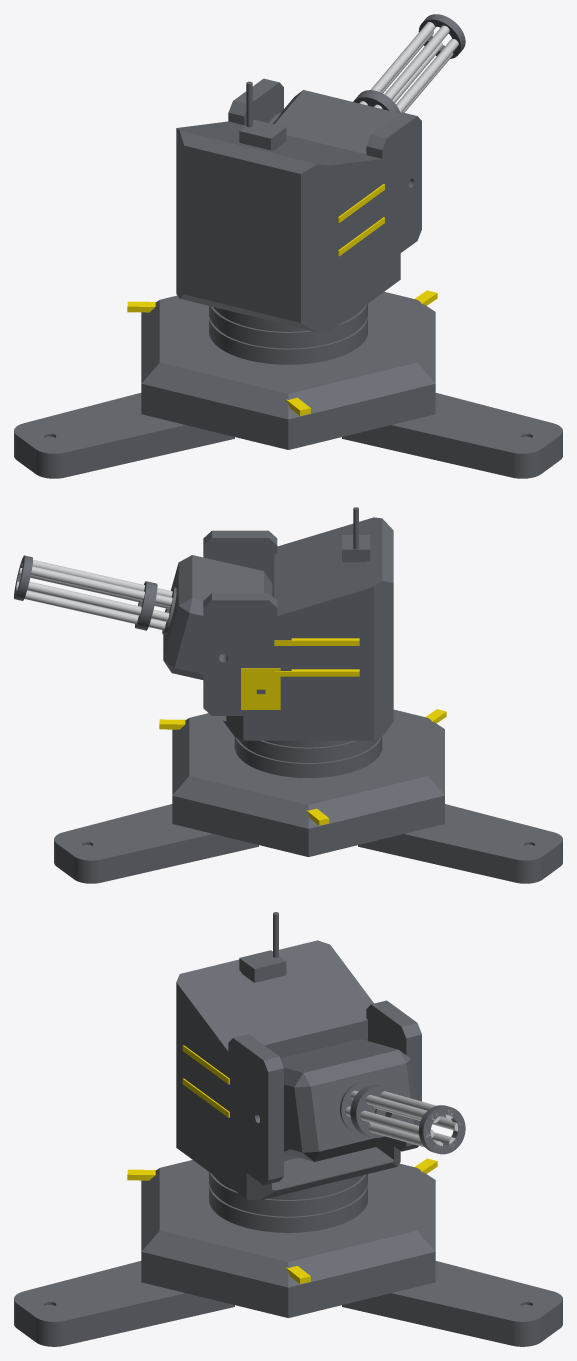
The model's file is torreta.glb.
3 renders of one model, top to bottom at view 1: azimuth 30°, elevation 25°; view 2: azimuth 150°, elevation 25°; view 3: azimuth 270°, elevation 25°, orthographic. The views are drawn at different scales.
Parts seen in each view (by area): view 1: =>[0:1:1:12], =>[0:1:1:4], =>[0:1:1:20], =>[0:1:1:29], =>[0:1:1:28], =>[0:1:1:30], =>[0:1:1:25]; view 2: =>[0:1:1:4], =>[0:1:1:12], =>[0:1:1:20], =>[0:1:1:18], =>[0:1:1:27], =>[0:1:1:28], =>[0:1:1:32], =>[0:1:1:29], =>[0:1:1:24], =>[0:1:1:14], =>[0:1:1:16], =>[0:1:1:25]; view 3: =>[0:1:1:4], =>[0:1:1:12], =>[0:1:1:20], =>[0:1:1:25], =>[0:1:1:24], =>[0:1:1:30], =>[0:1:1:29], =>[0:1:1:23], =>[0:1:1:31].
Part boxes in pixels (x1,y1,x2,y2): =>[0:1:1:12]: (176, 78, 421, 364); =>[0:1:1:4]: (14, 291, 562, 478); =>[0:1:1:20]: (269, 90, 399, 154); =>[0:1:1:29]: (374, 25, 449, 108); =>[0:1:1:28]: (359, 22, 436, 105); =>[0:1:1:30]: (396, 38, 458, 112); =>[0:1:1:25]: (418, 14, 465, 58); =>[0:1:1:4]: (54, 709, 562, 883); =>[0:1:1:12]: (203, 507, 393, 777); =>[0:1:1:20]: (163, 555, 272, 679); =>[0:1:1:18]: (241, 668, 280, 709); =>[0:1:1:27]: (18, 580, 169, 621); =>[0:1:1:28]: (21, 566, 172, 606); =>[0:1:1:32]: (16, 588, 166, 630); =>[0:1:1:29]: (21, 560, 172, 597); =>[0:1:1:24]: (135, 581, 157, 630); =>[0:1:1:14]: (274, 669, 359, 676); =>[0:1:1:16]: (274, 638, 359, 645); =>[0:1:1:25]: (14, 555, 32, 600); =>[0:1:1:4]: (14, 1160, 562, 1346); =>[0:1:1:12]: (176, 912, 421, 1232); =>[0:1:1:20]: (280, 1039, 418, 1161); =>[0:1:1:25]: (418, 1105, 465, 1154); =>[0:1:1:24]: (350, 1084, 400, 1137); =>[0:1:1:30]: (345, 1106, 433, 1137); =>[0:1:1:29]: (351, 1090, 439, 1122); =>[0:1:1:23]: (340, 1081, 385, 1133); =>[0:1:1:31]: (369, 1122, 443, 1147).
Size of the model in its own units: 0.1912 by 0.121 by 0.1792.
